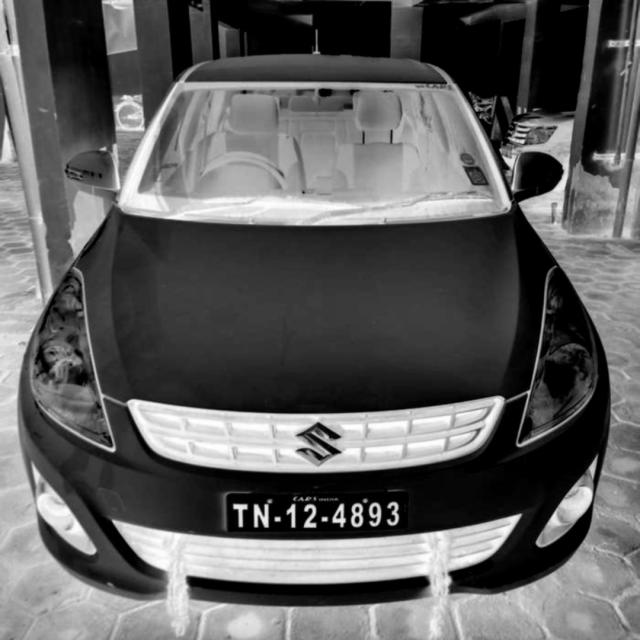Non_registered: (224, 491, 412, 536)
